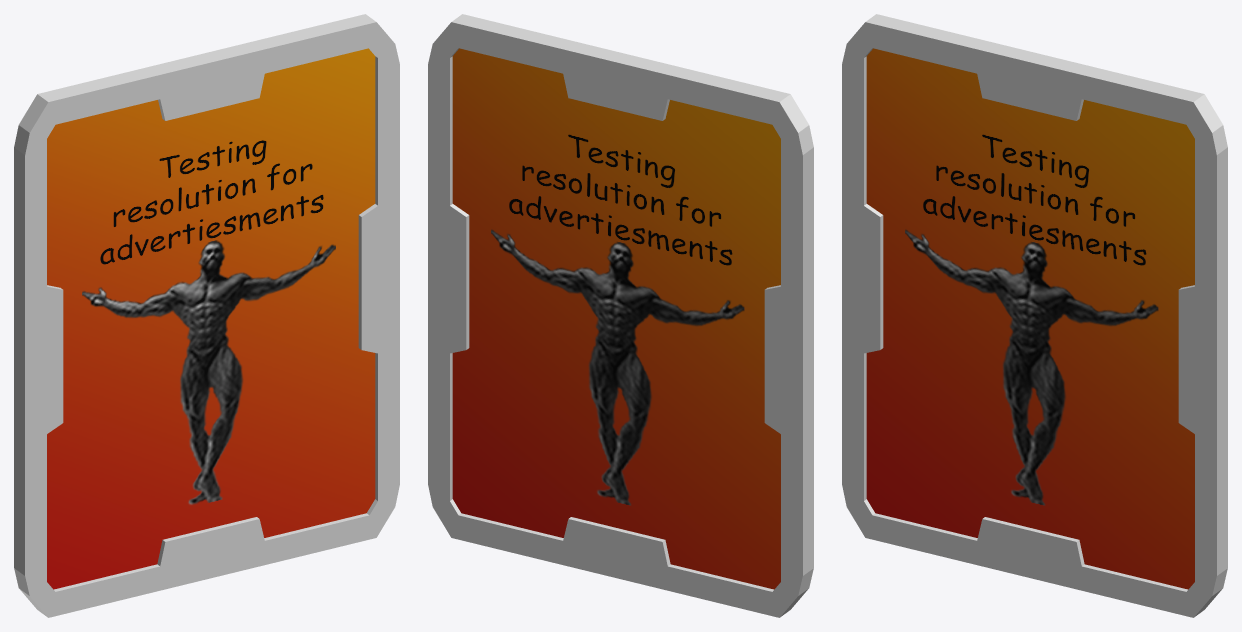
The model's file is SM_AdvertiesmentBillboard_001.fbx.
The picture shows the model from 3 angles, left to right: view 1: azimuth 30°, elevation 25°; view 2: azimuth 150°, elevation 25°; view 3: azimuth 330°, elevation 25°; orthographic projection.
Parts seen in each view (by area): view 1: SM_AdvertiesmentBillboard_001; view 2: SM_AdvertiesmentBillboard_001; view 3: SM_AdvertiesmentBillboard_001.
Part boxes in pixels (x1,y1,x2,y2): SM_AdvertiesmentBillboard_001: [14, 14, 399, 617]; SM_AdvertiesmentBillboard_001: [428, 14, 813, 617]; SM_AdvertiesmentBillboard_001: [842, 14, 1227, 617].
Bounding box in the file's own units: 14.24 × 18.73 × 0.7296.
